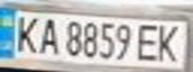5: (100, 19, 118, 61)
8: (60, 18, 84, 57), (78, 18, 100, 58)
9: (112, 20, 136, 61)
A: (36, 15, 60, 55)
E: (133, 21, 163, 62)
K: (154, 21, 187, 64), (9, 12, 42, 54)
